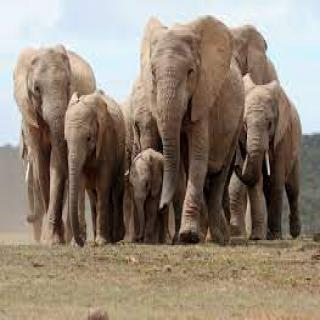Elephant: (141, 8, 246, 250), (10, 38, 99, 242), (236, 72, 312, 242), (59, 90, 128, 253), (122, 147, 176, 250)
